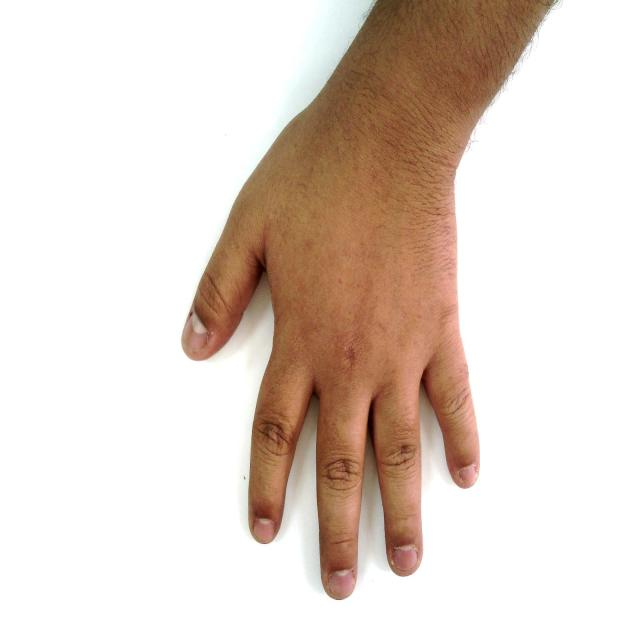Nail: (181, 309, 208, 355), (328, 570, 356, 600), (393, 546, 418, 571), (253, 519, 276, 544), (458, 463, 478, 489)
